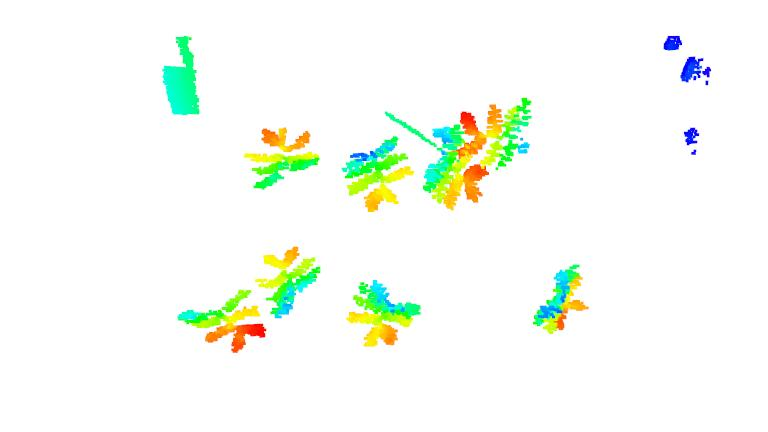chickpea: (242, 120, 322, 192), (182, 285, 262, 356), (455, 96, 536, 166), (425, 121, 482, 209), (350, 278, 418, 351), (257, 243, 319, 323), (346, 134, 410, 209), (532, 265, 590, 338)
